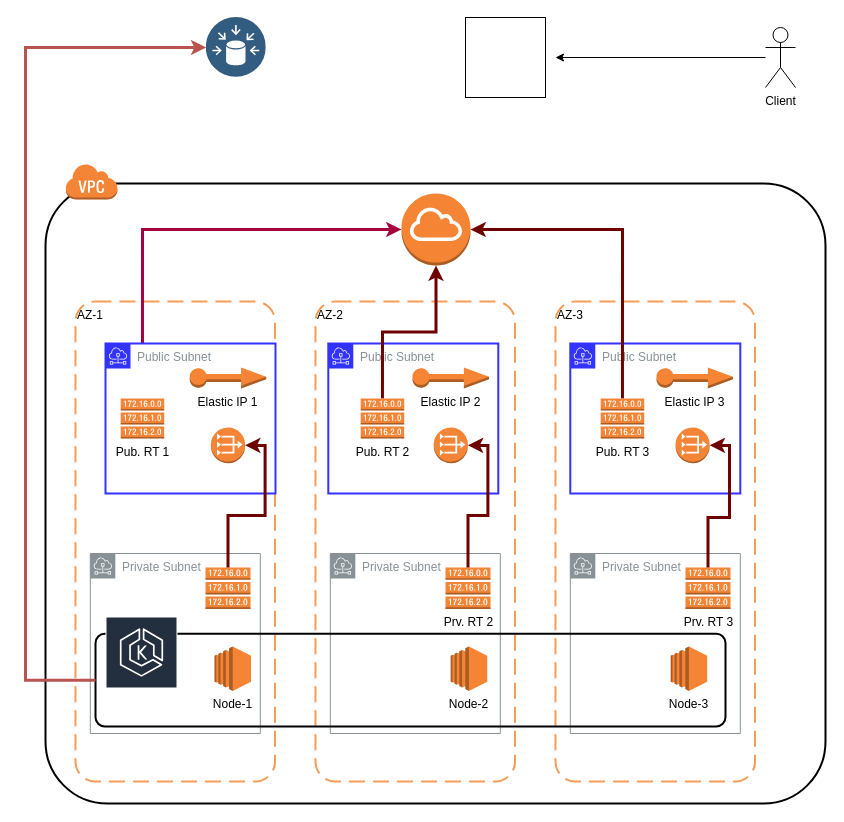
This 844x822 diagram has some shape labels left out. Here are the shapes that lost their labels. From the top down, the centre of each, then its label:
At (236,47): "External Source".
At (505,57): "exposed frontend service".
At (435,229): "Internet Gateway".
At (227,444): "NAT GW 1".
At (450,444): "NAT GW 2".
At (692,444): "NAT GW 3".
At (227,587): "Prv. RT 1".
At (141,661): "Amazon EKS".
